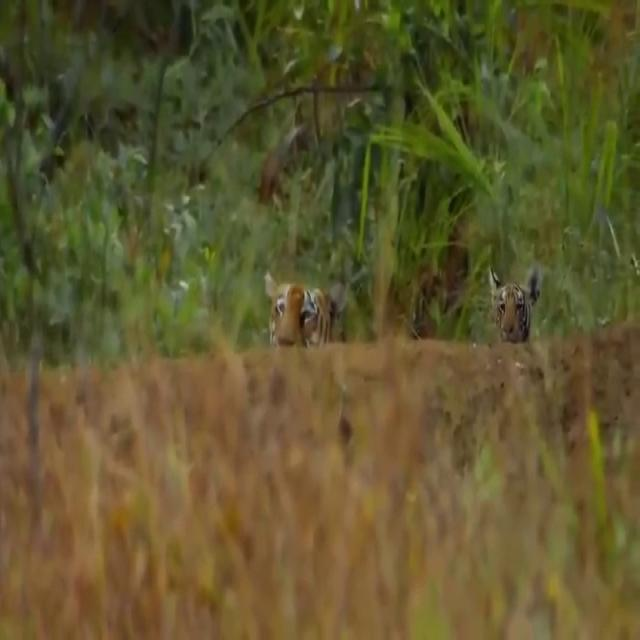tiger: (265, 265, 346, 350), (488, 263, 543, 343)
